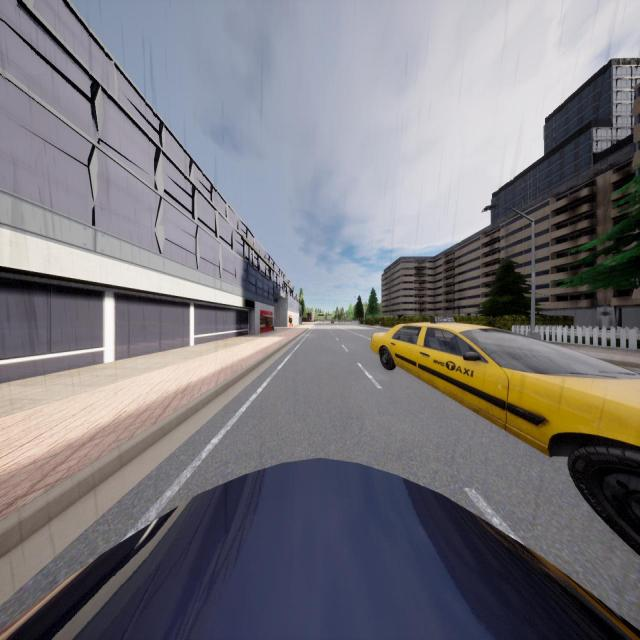Vehicle: (0, 456, 640, 640), (370, 316, 640, 548), (330, 319, 334, 324)
